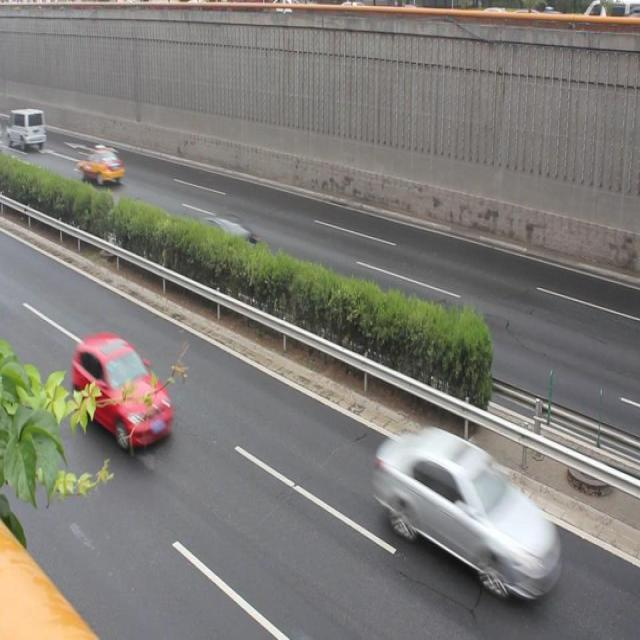car: (371, 419, 555, 594), (71, 329, 174, 453), (192, 210, 259, 270), (76, 141, 126, 193)
